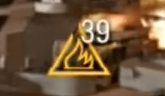1fire: (41, 48, 114, 77)
